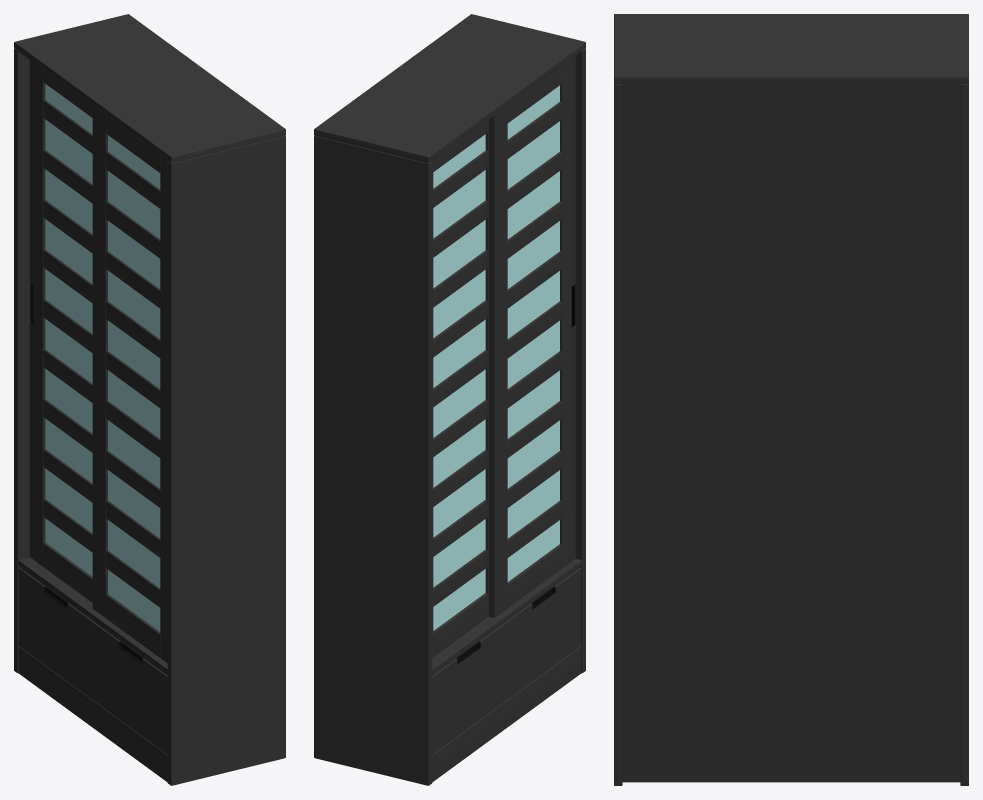
Rendered from SM_Bookshelf_01.fbx.
The picture shows the model from 3 angles, left to right: view 1: azimuth 30°, elevation 25°; view 2: azimuth 150°, elevation 25°; view 3: azimuth 270°, elevation 25°; orthographic projection. The views are drawn at different scales.
Parts seen in each view (by area): view 1: SM_Bookshelf_01_LOD0; view 2: SM_Bookshelf_01_LOD0; view 3: SM_Bookshelf_01_LOD0.
Part boxes in pixels (left/top/right/bottom): SM_Bookshelf_01_LOD0: left=14, top=14, right=285, bottom=785; SM_Bookshelf_01_LOD0: left=314, top=14, right=585, bottom=785; SM_Bookshelf_01_LOD0: left=614, top=14, right=968, bottom=785.
Bounding box in the file's own units: 35 × 83 × 183.
